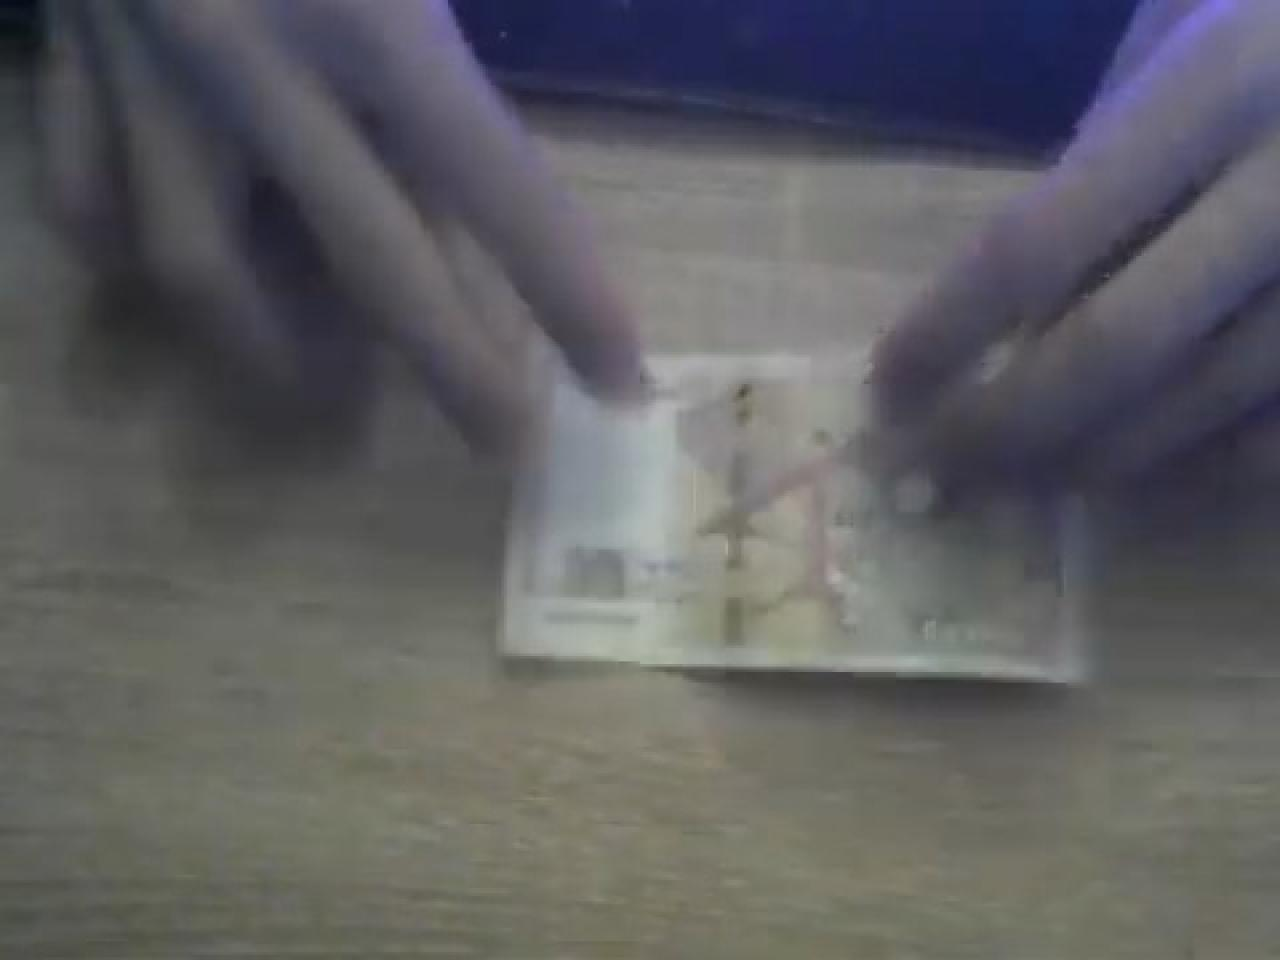10leva: (501, 373, 1074, 680)
